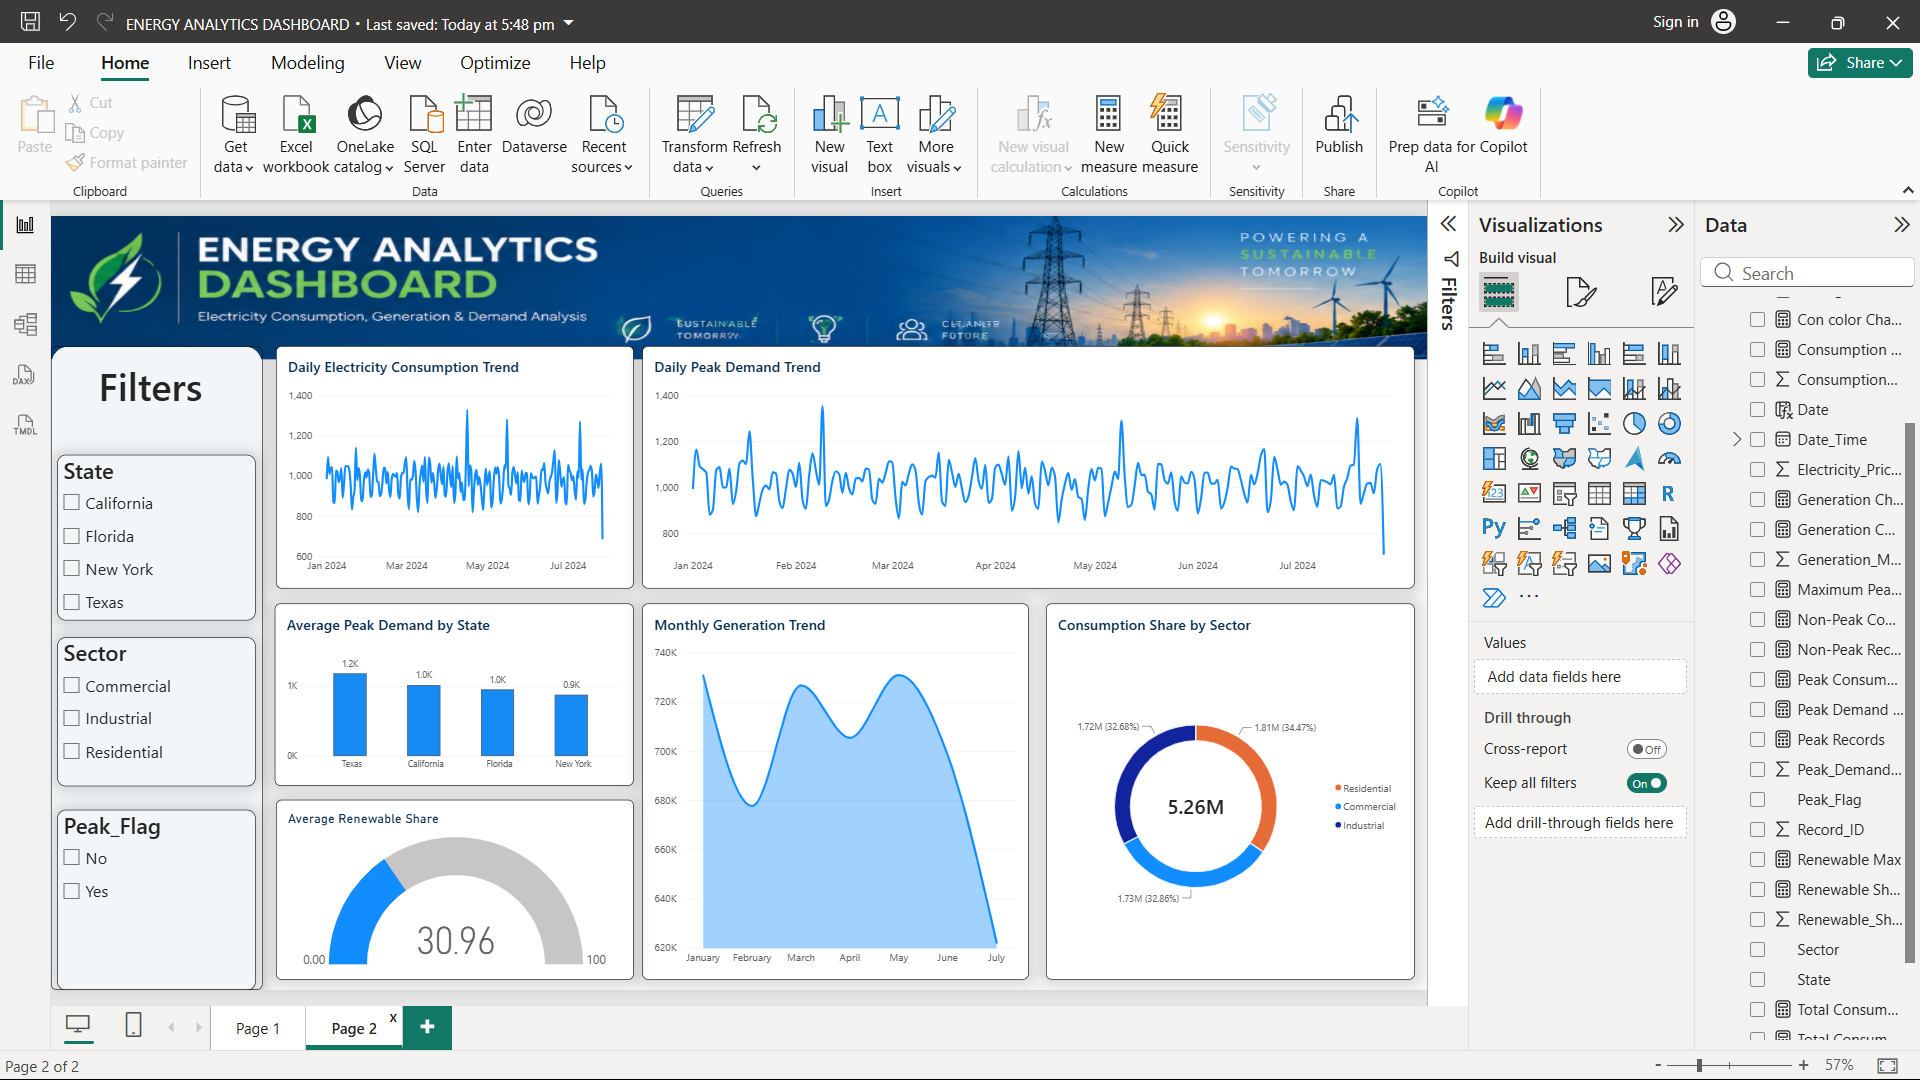

This screenshot's page, from the dashboard's own definition file:
{"tool":"powerbi","page":{"name":"Page 2","canvas":[1920,1080],"ordinal":1},"visuals":[{"type":"image","box":[0,0,1920,199.9],"z":0},{"type":"shape","box":[0,180.9,295.3,898.5],"z":1000},{"type":"slicer","fields":{"Values":["Sheet1.State"]},"box":[8.3,332.8,276.6,230.9],"z":1001},{"type":"slicer","fields":{"Values":["Sheet1.Sector"]},"box":[8.3,588.6,276.6,208],"z":1002},{"type":"slicer","fields":{"Values":["Sheet1.Peak_Flag"]},"box":[8.3,827.7,276.6,251.6],"z":1003}]}

Visuals, with their boxes on the page's 1920x1080 design canvas (x1, y1, x2, y2). These are canvas units, not pixel positions in the 1920x1080 screenshot, which may show the page scaled, cropped or inside an application window:
image: box(0, 0, 1920, 200)
shape: box(0, 181, 295, 1079)
slicer - Sheet1.State: box(8, 333, 285, 564)
slicer - Sheet1.Sector: box(8, 589, 285, 797)
slicer - Sheet1.Peak_Flag: box(8, 828, 285, 1079)
